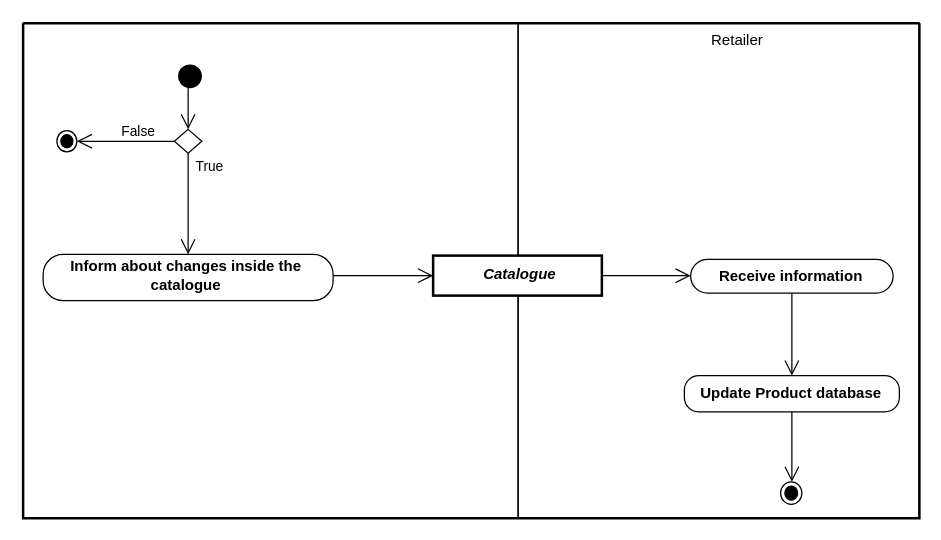
The diagram is 941 pixels wide and 540 high, and some of its shapes have lost their labels. The shapes that lost their labels are listed below. From the top down, each one's box as (x1, y1, x2, y2) in pixels, then its label:
(173, 128, 202, 153): Catalogue update is needed?
(22, 22, 518, 518): Producer
